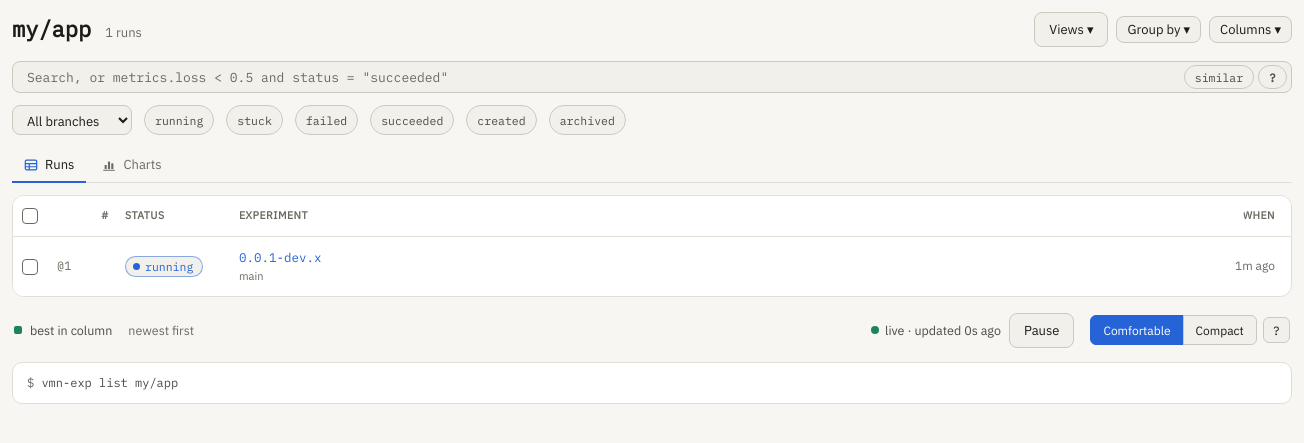
Test case: Leaderboard request ordering › never lets an older response overwrite a newer one
Check: the button "running" is shown, box [144,105,214,135]
A status filter change fires a second, newer request.
Step 1. Click the button "failed" → {"x": 326, "y": 120}, box [295,105,358,135]
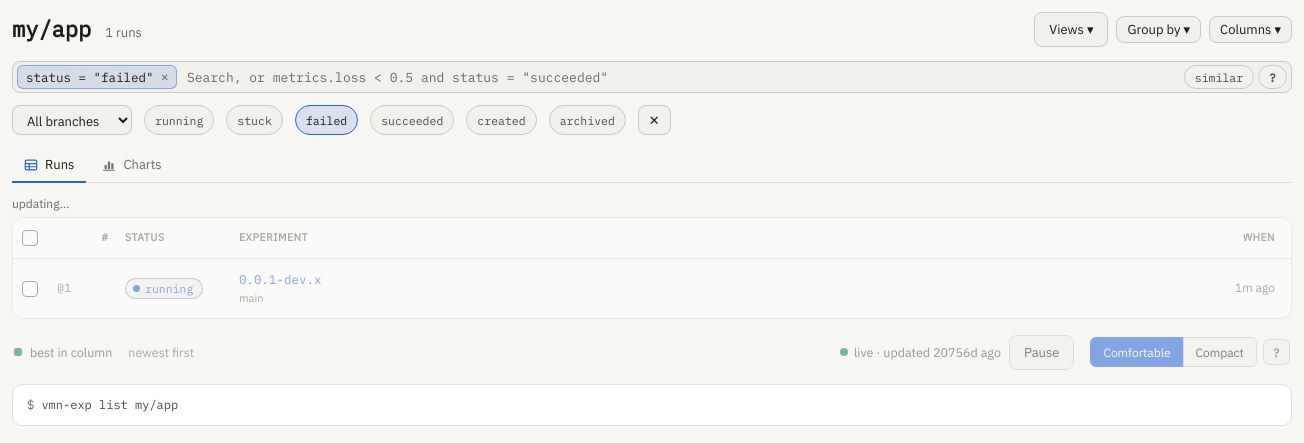
Step 2. Click the button "running" → {"x": 179, "y": 120}, box [144,105,214,135]
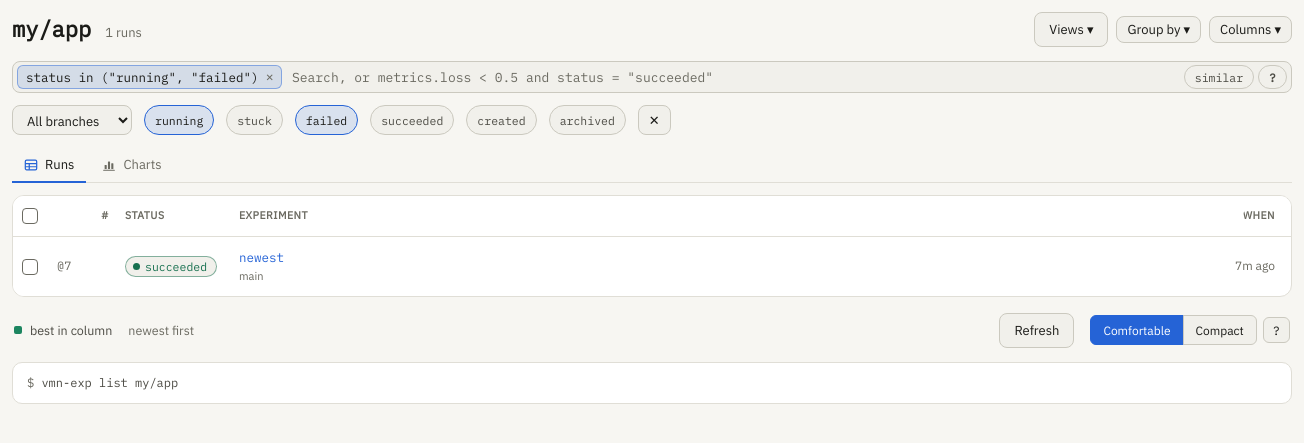
Check: the link "newest" is shown, box [239,248,284,267]
